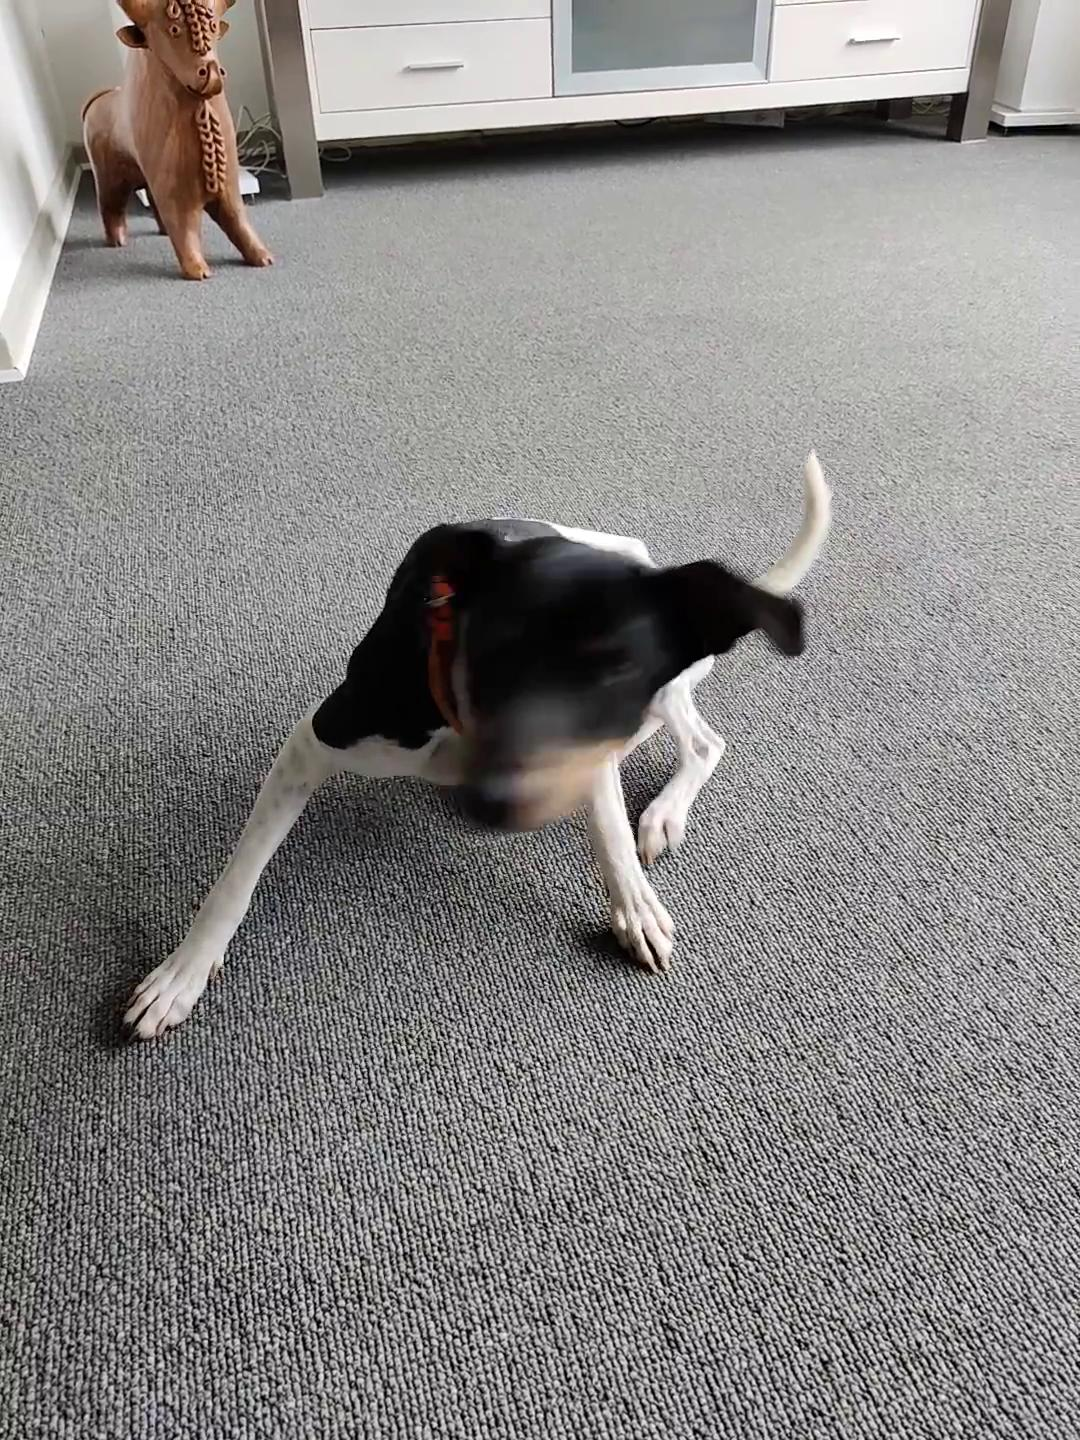Dog: (98, 427, 864, 1054)
